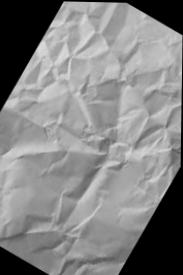paper: (0, 2, 182, 274)
